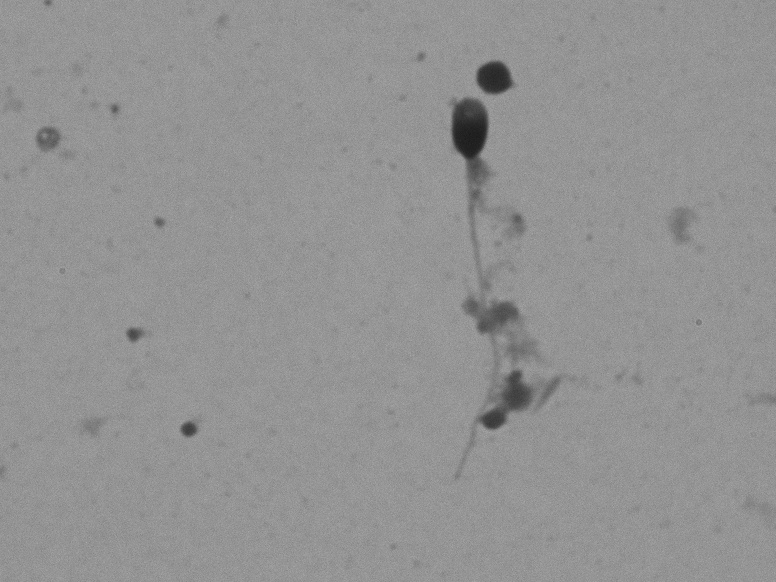Abnormal: (402, 92, 528, 496)
